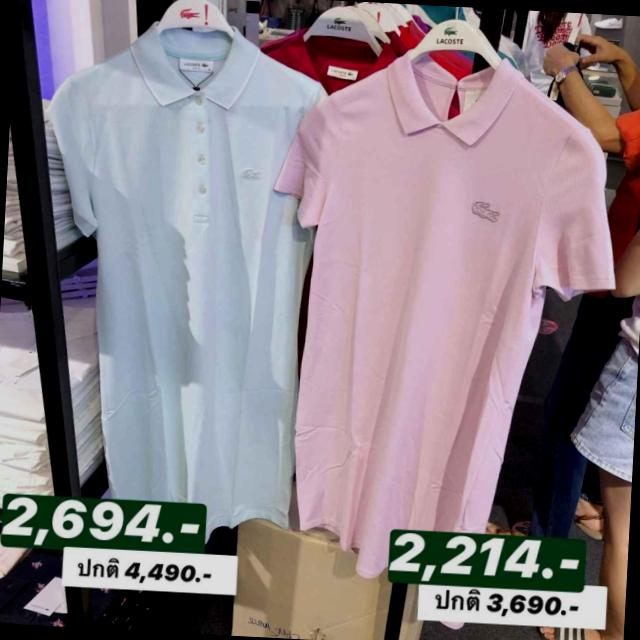Tshirt: (273, 22, 617, 596), (24, 16, 348, 543)
